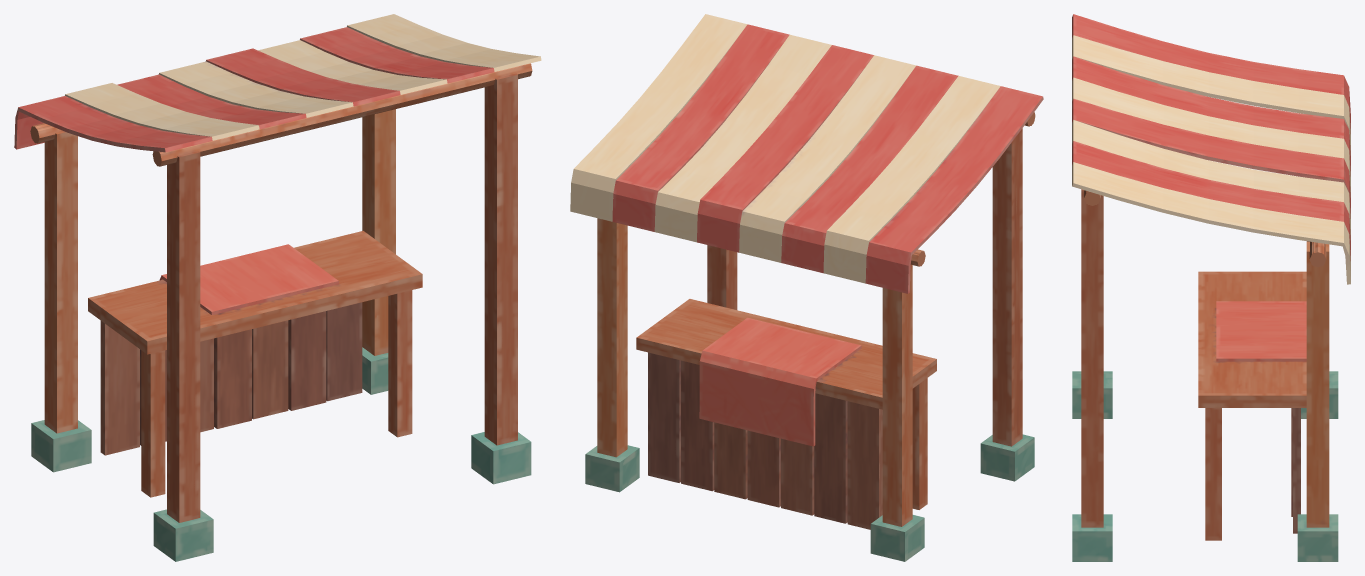
The model's file is stall.bundle.fbx.
3 renders of one model, left to right at view 1: azimuth 30°, elevation 25°; view 2: azimuth 150°, elevation 25°; view 3: azimuth 270°, elevation 25°, orthographic. The views are drawn at different scales.
Visible parts, largest first — view 1: stall, stall_low, stall_s07, stall_s03, stall_s01, stall_s02, stall_s05, stall_s09, stall_s00, stall_s04, stall_s08, stall_s06; view 2: stall, stall_low, stall_s01, stall_s07, stall_s02, stall_s09, stall_s03, stall_s06, stall_s08, stall_s00, stall_s05; view 3: stall, stall_low, stall_s02, stall_s07, stall_s01, stall_s08, stall_s06, stall_s05.
Part boxes in pixels (left/top/right/bottom): stall: left=14, top=14, right=541, bottom=555; stall_low: left=31, top=73, right=531, bottom=561; stall_s07: left=216, top=185, right=422, bottom=368; stall_s03: left=31, top=270, right=213, bottom=561; stall_s01: left=44, top=70, right=364, bottom=377; stall_s02: left=232, top=49, right=518, bottom=353; stall_s05: left=275, top=357, right=530, bottom=483; stall_s09: left=165, top=331, right=278, bottom=439; stall_s00: left=32, top=369, right=213, bottom=556; stall_s04: left=291, top=301, right=517, bottom=451; stall_s08: left=107, top=274, right=297, bottom=394; stall_s06: left=35, top=54, right=238, bottom=167; stall: left=570, top=14, right=1043, bottom=557; stall_low: left=585, top=123, right=1034, bottom=561; stall_s01: left=724, top=63, right=1025, bottom=378; stall_s07: left=585, top=239, right=793, bottom=470; stall_s02: left=597, top=45, right=853, bottom=302; stall_s09: left=712, top=392, right=852, bottom=521; stall_s03: left=857, top=311, right=1022, bottom=559; stall_s06: left=723, top=143, right=1007, bottom=309; stall_s08: left=789, top=311, right=997, bottom=427; stall_s00: left=839, top=452, right=985, bottom=561; stall_s05: left=585, top=445, right=714, bottom=491; stall: left=1072, top=14, right=1350, bottom=558; stall_low: left=1072, top=189, right=1338, bottom=561; stall_s02: left=1072, top=104, right=1350, bottom=447; stall_s07: left=1198, top=330, right=1338, bottom=546; stall_s01: left=1072, top=29, right=1350, bottom=199; stall_s08: left=1198, top=273, right=1306, bottom=335; stall_s06: left=1145, top=36, right=1350, bottom=182; stall_s05: left=1072, top=479, right=1338, bottom=561.
Bounding box in the file's own units: 7.1 × 7.5 × 4.95.
Materials: 1 (1 with a texture image).
